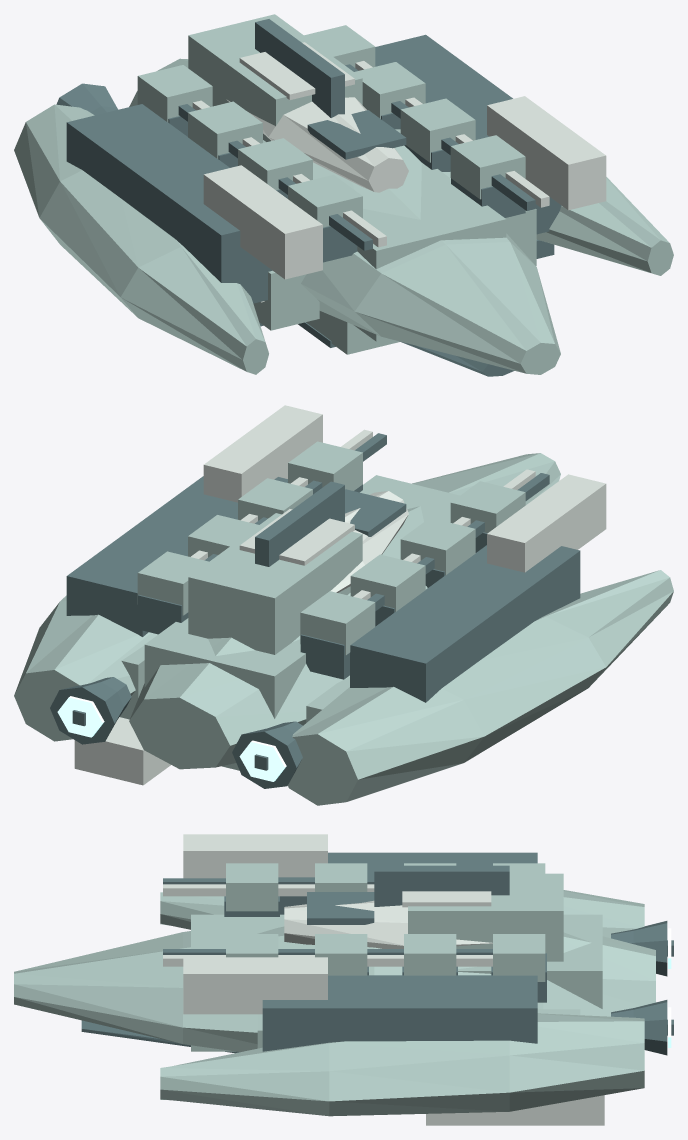
3 views of the same model, one above another, from view 1: azimuth 30°, elevation 25°; view 2: azimuth 150°, elevation 25°; view 3: azimuth 270°, elevation 25° (orthographic). The views are drawn at different scales.
Size of the model in its own units: 17.92 by 7.88 by 23.72.
